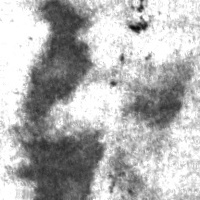patches: (23, 1, 93, 140), (21, 128, 109, 200), (132, 71, 188, 123)
